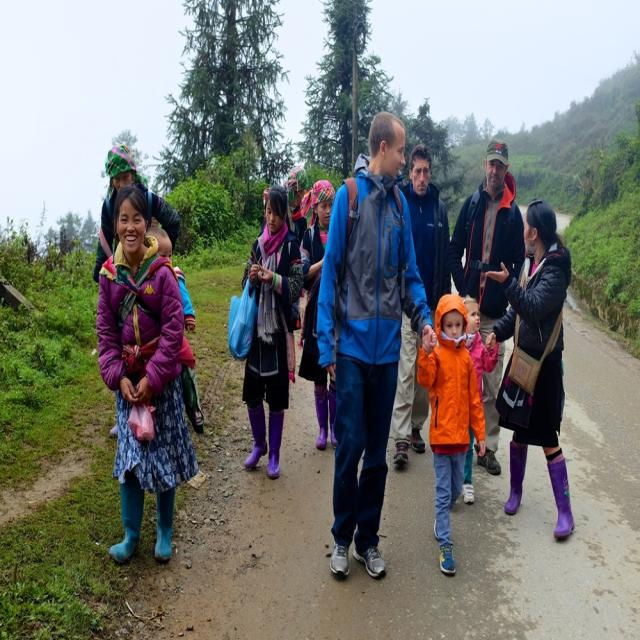body: (311, 110, 438, 584), (94, 179, 200, 564), (484, 194, 576, 544), (444, 136, 530, 480), (92, 142, 182, 440), (226, 182, 306, 481), (414, 289, 488, 580), (391, 144, 452, 467), (141, 224, 205, 431), (296, 177, 340, 452), (459, 293, 500, 507), (280, 162, 314, 289)
